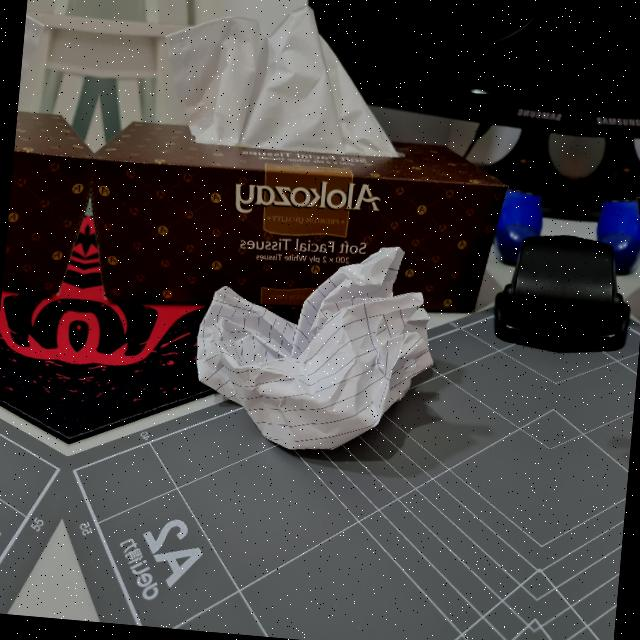paper: (190, 238, 438, 468)
